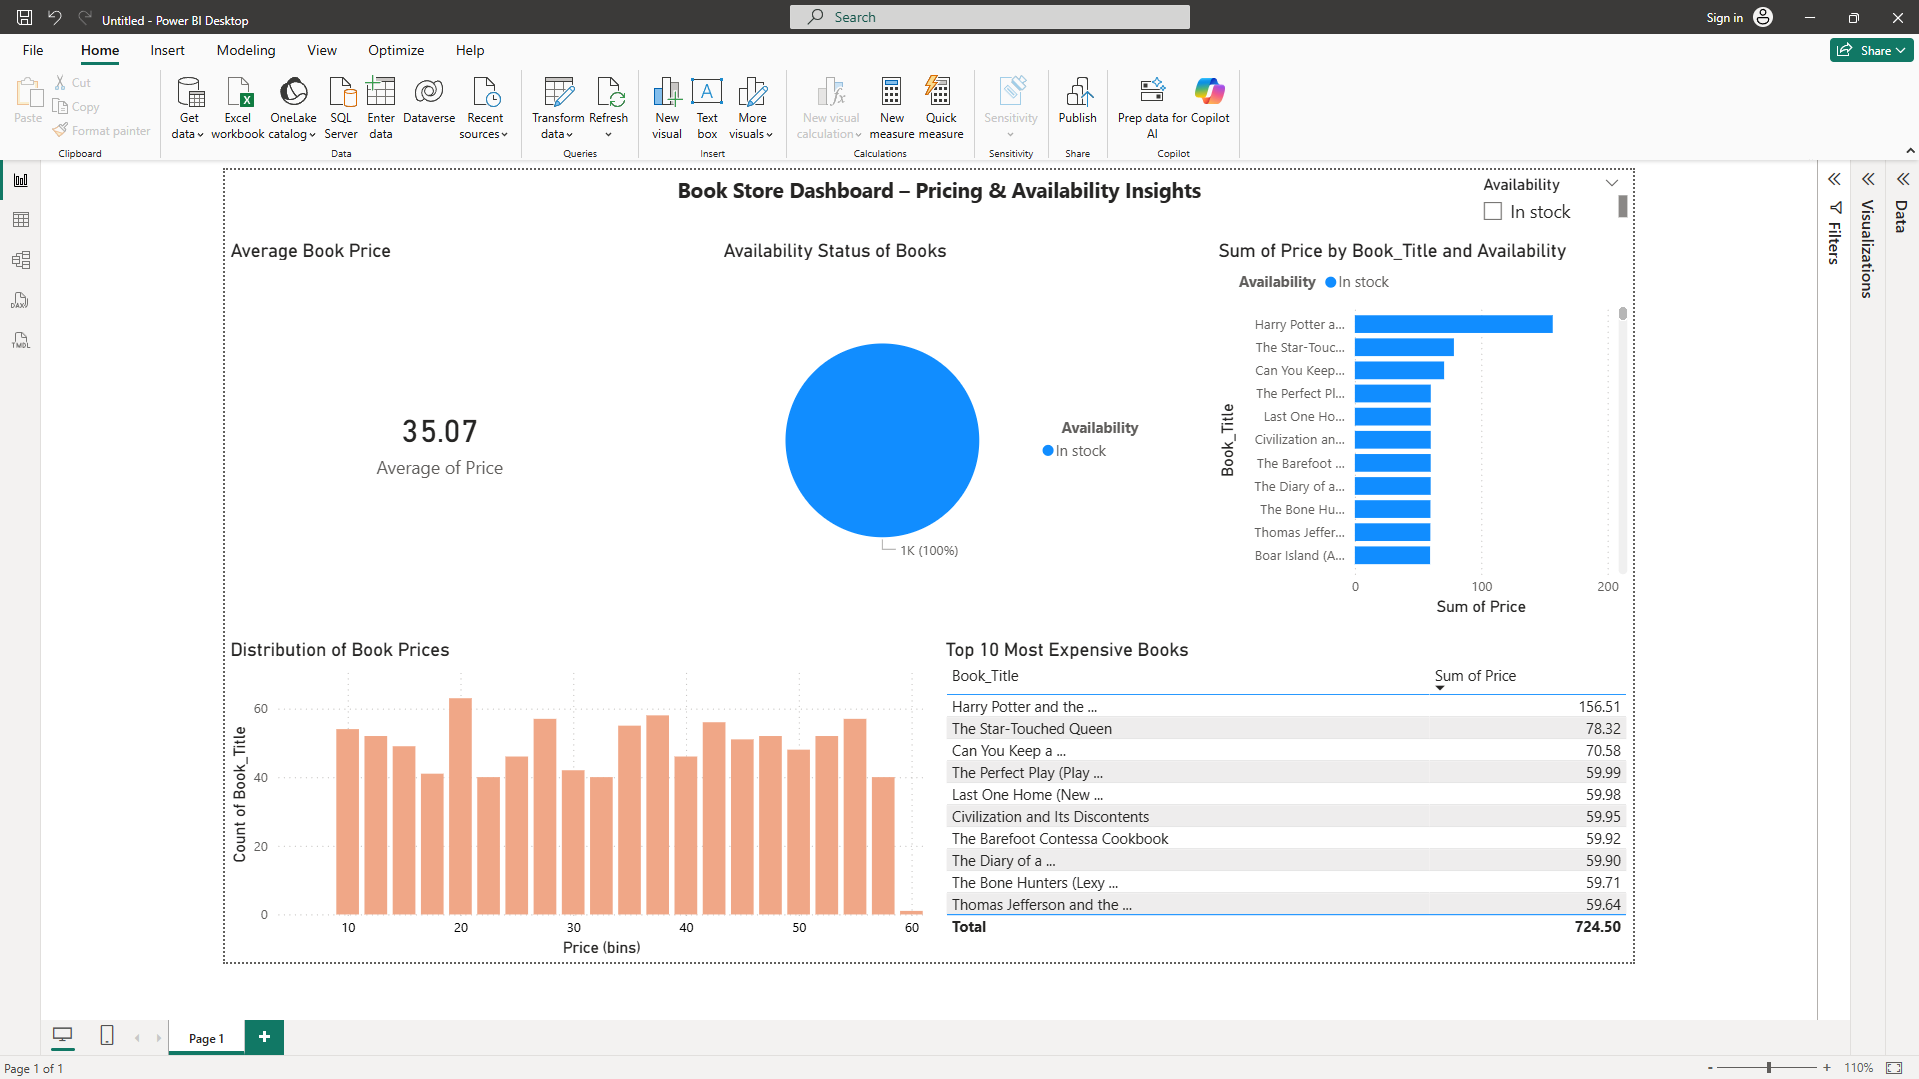

The dashboard page shown, as its layout file describes it:
{"tool":"powerbi","page":{"name":"Page 1","canvas":[1280,720],"ordinal":0},"visuals":[{"type":"barChart","fields":{"Category":["Sheet1.Book_Title"],"Y":["Sum(Sheet1.Price)"],"Series":["Sheet1.     Availability"]},"box":[898.1,62.5,381.7,347.1],"z":0},{"type":"card","title":"Average Book Price","fields":{"Values":["Avg(Sheet1.Price)"]},"box":[0,62.5,390.4,347.1],"z":1000},{"type":"pieChart","title":"Availability Status of Books","fields":{"Category":["Sheet1.     Availability"],"Y":["CountNonNull(Sheet1.Book_Title)"]},"box":[448.1,62.5,402.9,347.1],"z":2000},{"type":"clusteredColumnChart","title":"Distribution of Book Prices","fields":{"Category":["Sheet1.Price (bins)"],"Y":["CountNonNull(Sheet1.Book_Title)"]},"box":[0,425,640.4,294.2],"z":3000},{"type":"tableEx","title":"Top 10 Most Expensive Books","fields":{"Values":["Sheet1.Book_Title","Sum(Sheet1.Price)"]},"box":[650,425,629.8,294.2],"z":4000},{"type":"textbox","box":[373,0,553,36],"z":5000},{"type":"slicer","fields":{"Values":["Sheet1.     Availability"]},"box":[1130.8,0,149,51],"z":5001}]}

Visuals, with their boxes on the page's 1280x720 design canvas (x1, y1, x2, y2). These are canvas units, not pixel positions in the 1919x1079 screenshot, which may show the page scaled, cropped or inside an application window:
barChart - Sheet1.Book_Title x Sum(Sheet1.Price): [898,62,1280,410]
"Average Book Price" card: [0,62,390,410]
"Availability Status of Books" pieChart: [448,62,851,410]
"Distribution of Book Prices" clusteredColumnChart: [0,425,640,719]
"Top 10 Most Expensive Books" tableEx: [650,425,1280,719]
textbox: [373,0,926,36]
slicer - Sheet1.     Availability: [1131,0,1280,51]
